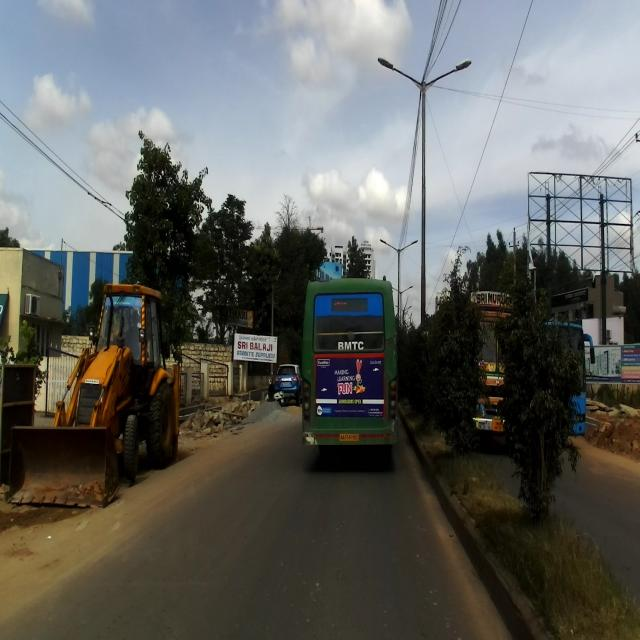bus: (299, 273, 398, 467)
